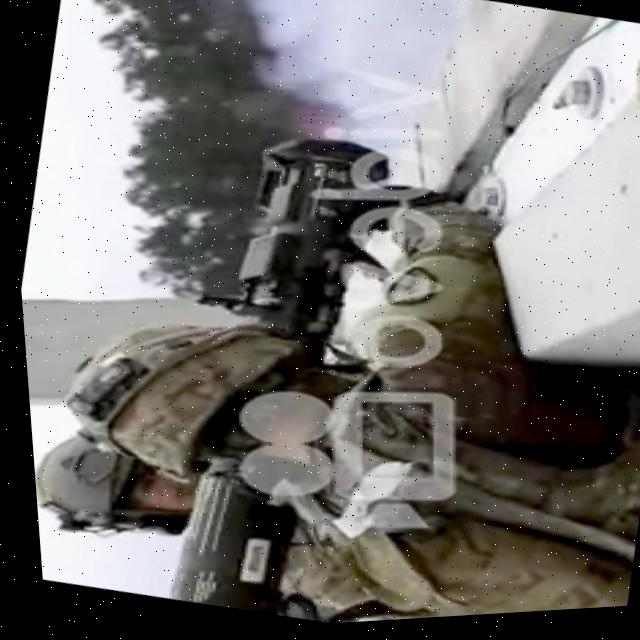rocket: (63, 90, 489, 637)
